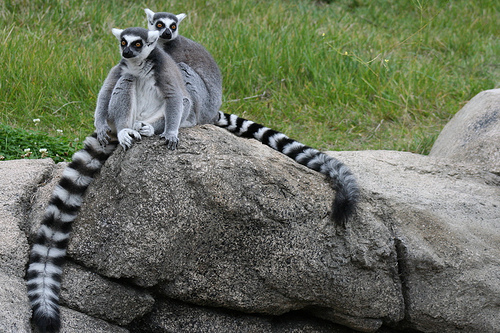cat: (142, 7, 362, 236), (26, 26, 186, 332)
